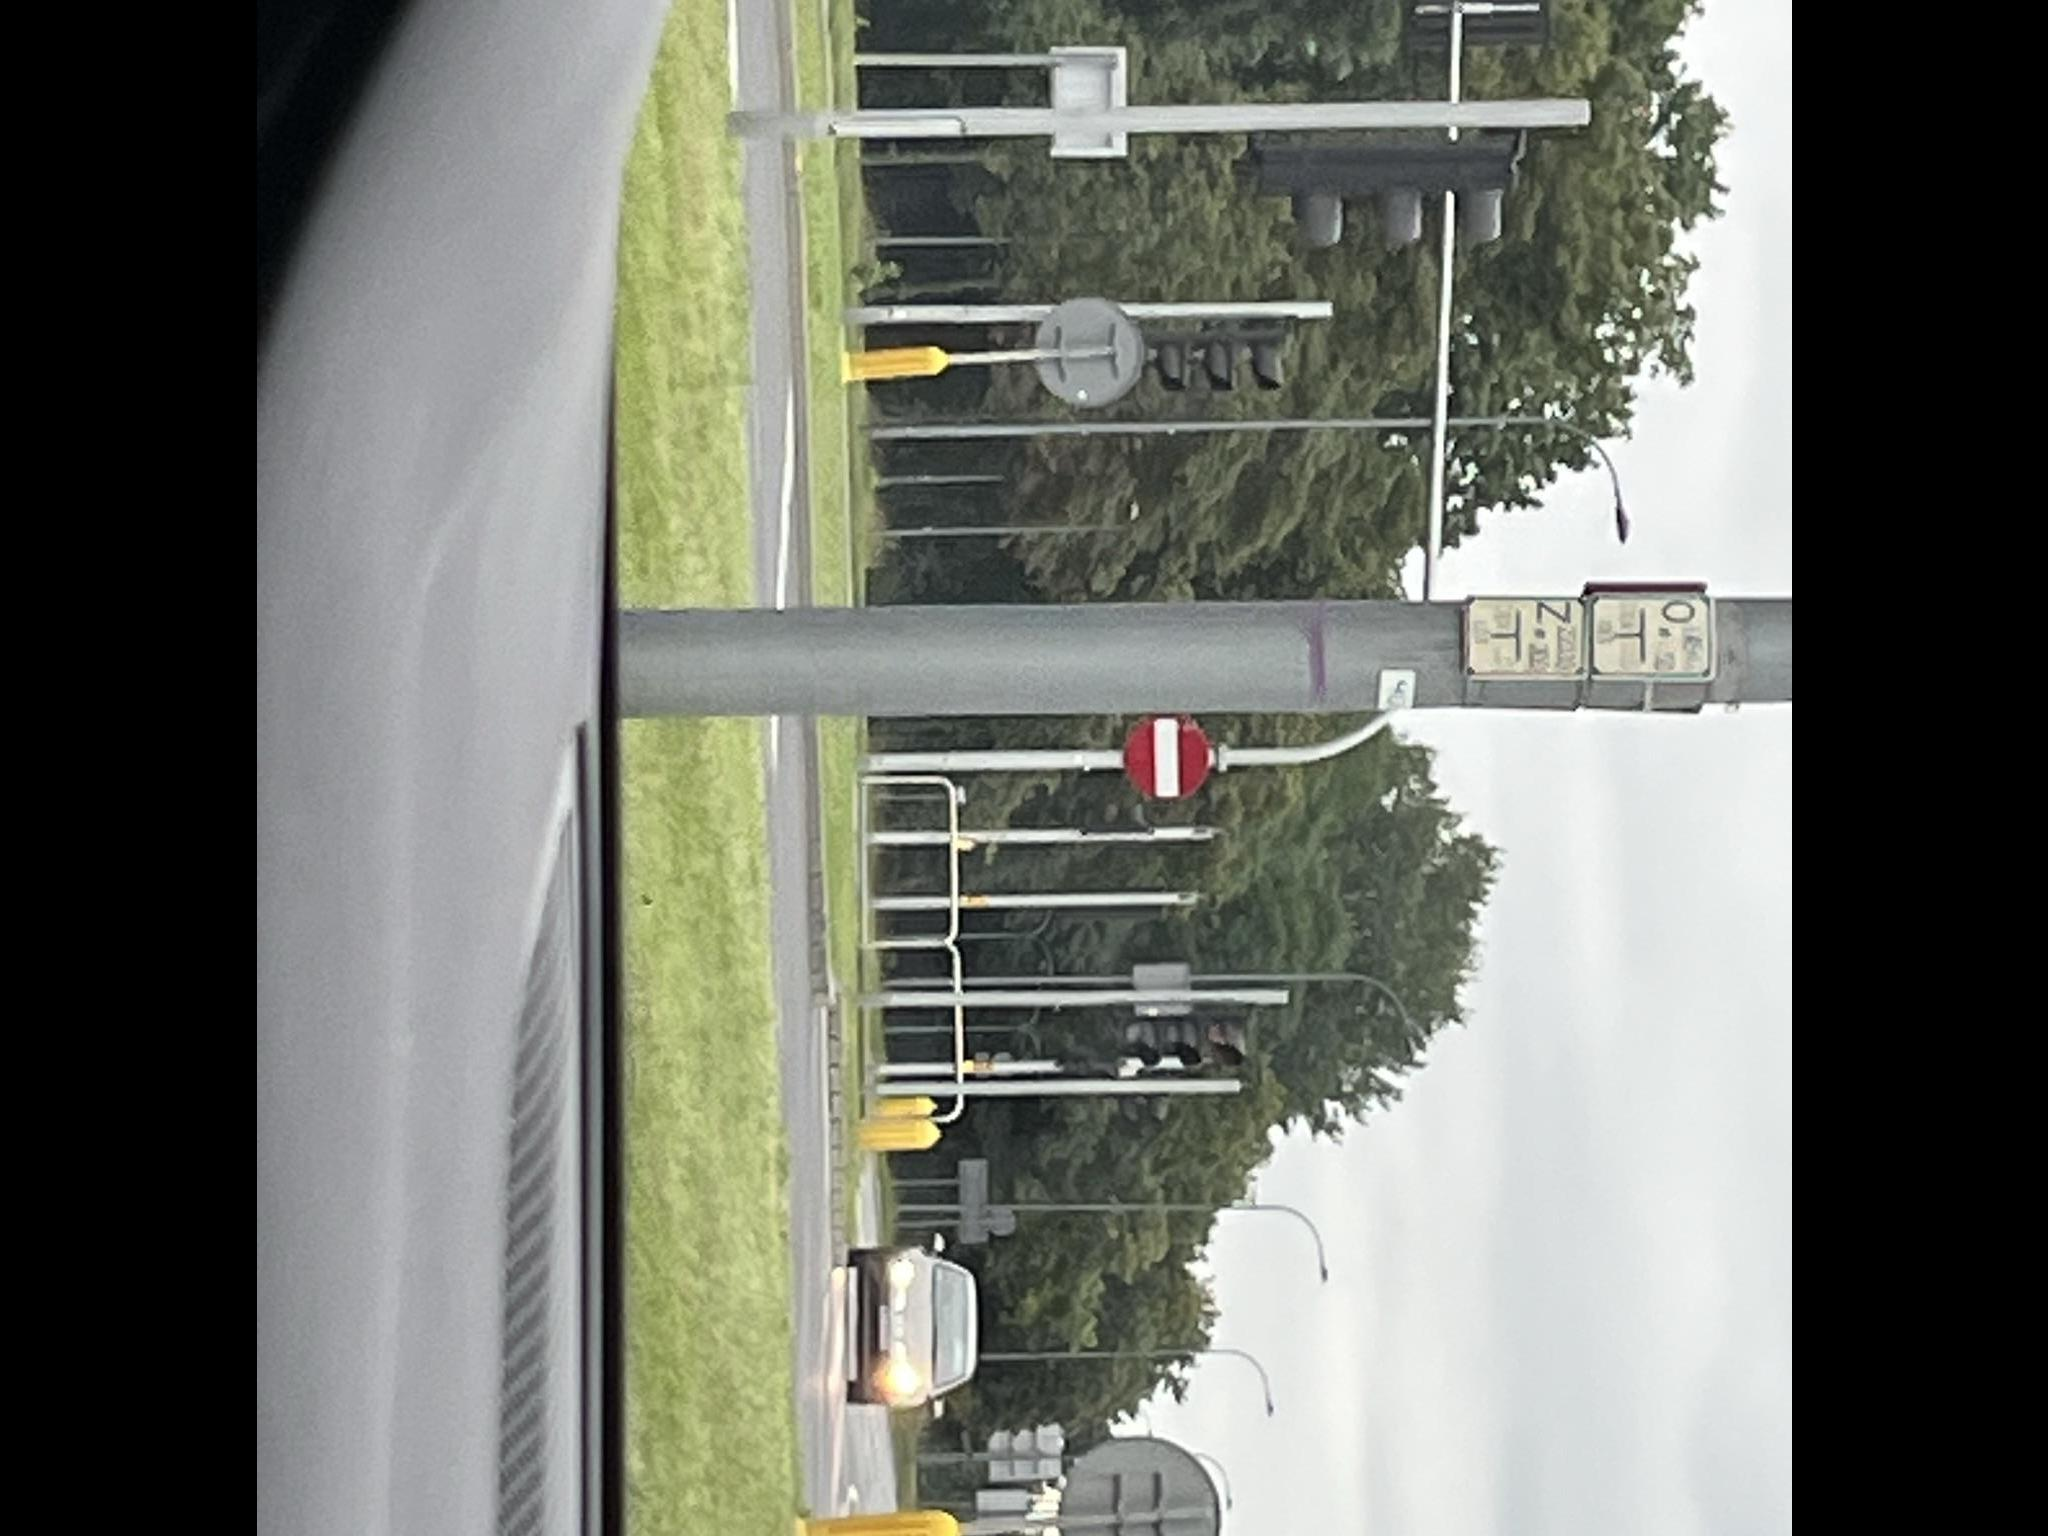prohibitory: (1121, 715, 1213, 803)
